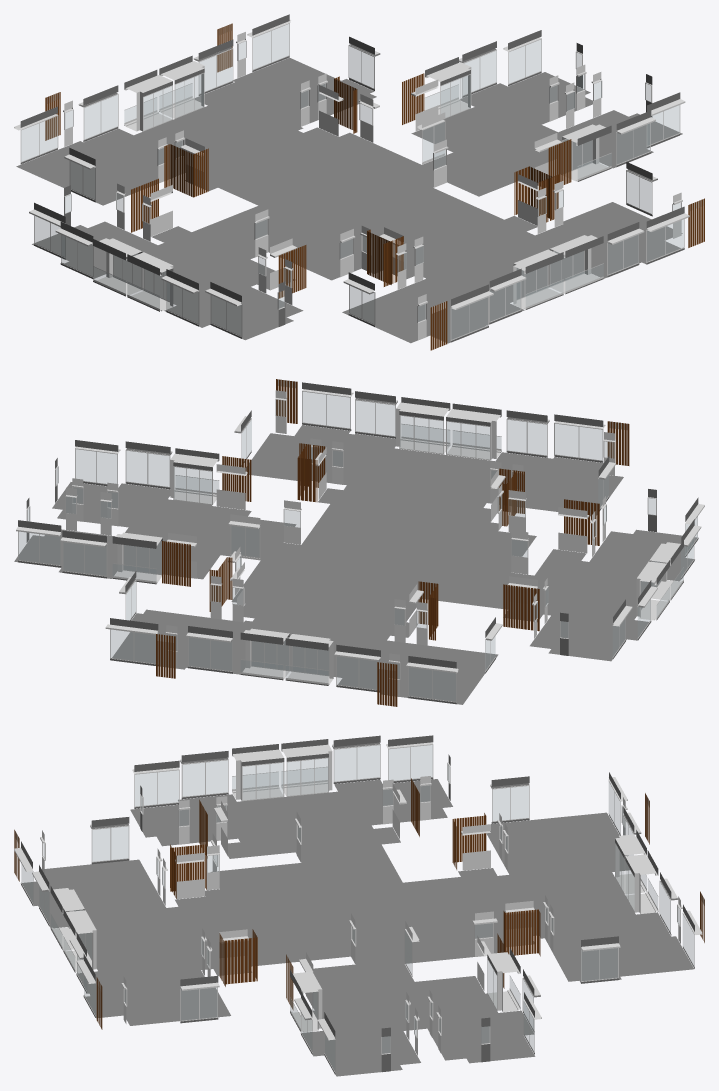
Rendered from 01_SM_T4_TypicalFloor.glb.
3 renders of one model, top to bottom at view 1: azimuth 30°, elevation 25°; view 2: azimuth 150°, elevation 25°; view 3: azimuth 270°, elevation 25°, orthographic. The views are drawn at different scales.
Parts seen in each view (by area): view 1: SM_Tower_04_TypicalFloor; view 2: SM_Tower_04_TypicalFloor; view 3: SM_Tower_04_TypicalFloor.
Part boxes in pixels (box(x1,y1,x2,y2)): SM_Tower_04_TypicalFloor: box(14, 14, 704, 350); SM_Tower_04_TypicalFloor: box(14, 379, 704, 706); SM_Tower_04_TypicalFloor: box(14, 735, 704, 1076).
Size of the model in its own units: 2.24 by 0.1525 by 2.18.
Materials: 6 (1 with a texture image).
